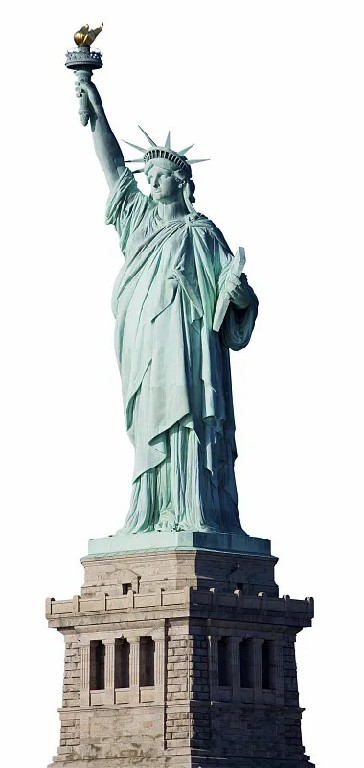SL: (44, 22, 317, 768)
